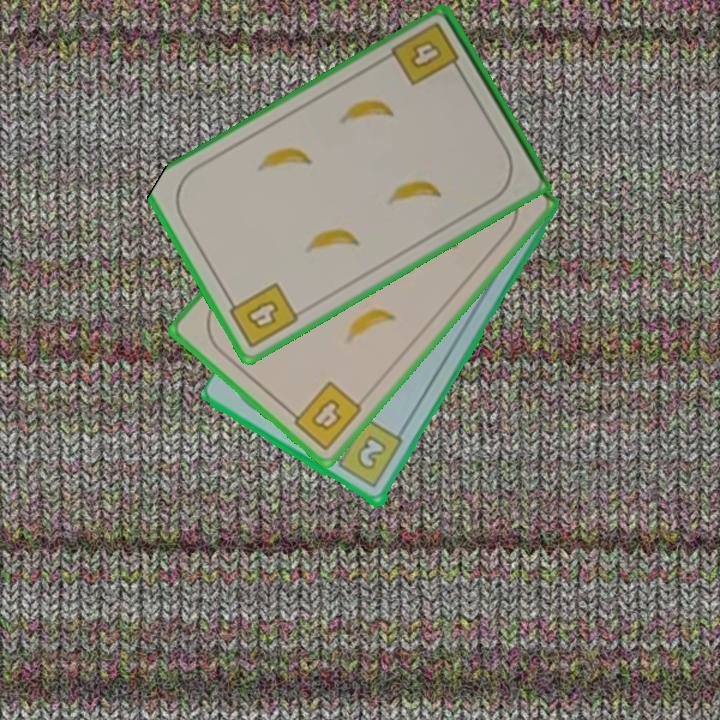2b: (327, 416, 406, 491)
4b: (283, 377, 365, 454), (222, 279, 302, 352), (388, 19, 466, 90)
